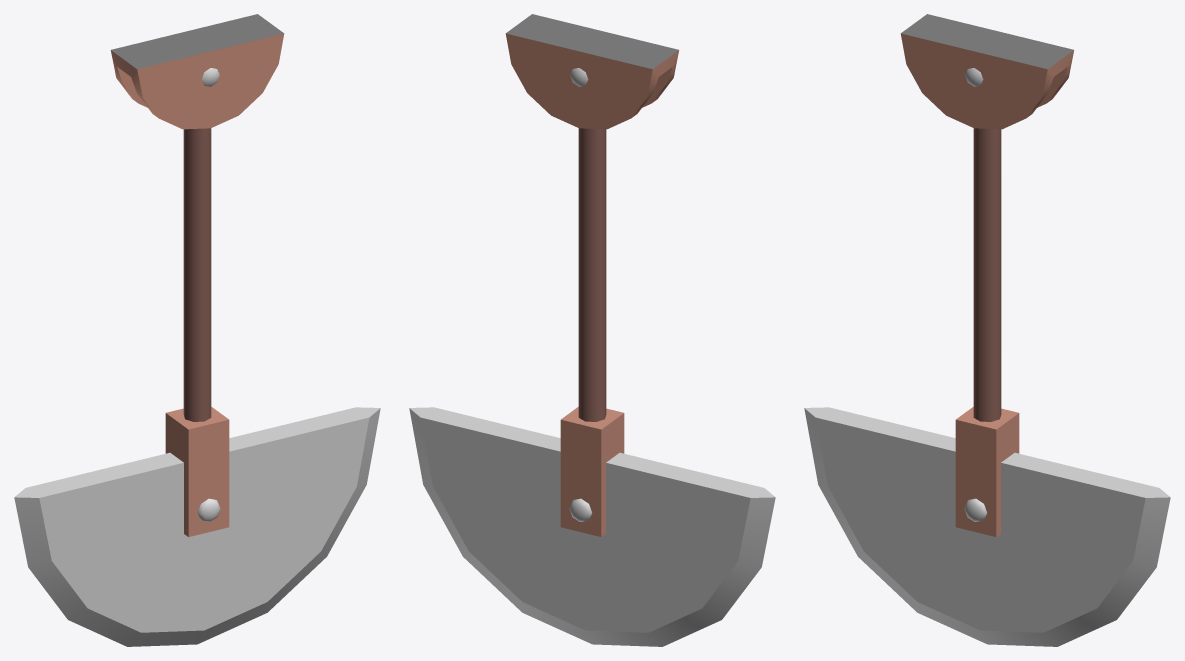
Rendered from Axe.fbx.
The picture shows the model from 3 angles, left to right: view 1: azimuth 30°, elevation 25°; view 2: azimuth 150°, elevation 25°; view 3: azimuth 330°, elevation 25°; orthographic projection.
Parts seen in each view (by area): view 1: Blade, Pendulum, Pivot; view 2: Blade, Pendulum, Pivot; view 3: Blade, Pendulum, Pivot.
Part boxes in pixels (x1,y1,x2,y2): Blade: (14, 407, 380, 646); Pendulum: (165, 128, 229, 536); Pivot: (110, 14, 284, 129); Blade: (409, 407, 775, 646); Pendulum: (560, 128, 624, 536); Pivot: (505, 14, 679, 129); Blade: (804, 407, 1170, 646); Pendulum: (955, 128, 1019, 536); Pivot: (900, 14, 1074, 129).
Size of the model in its own units: 369 by 580 by 51.56.
